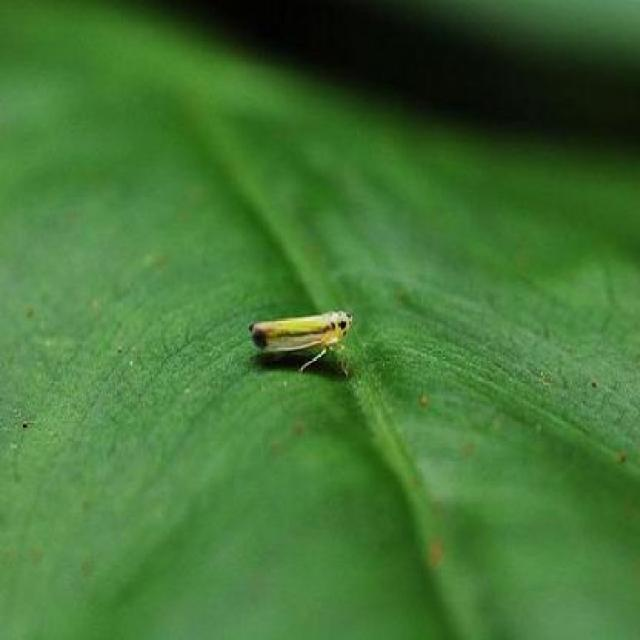green-leafhopper: (243, 312, 352, 371)
